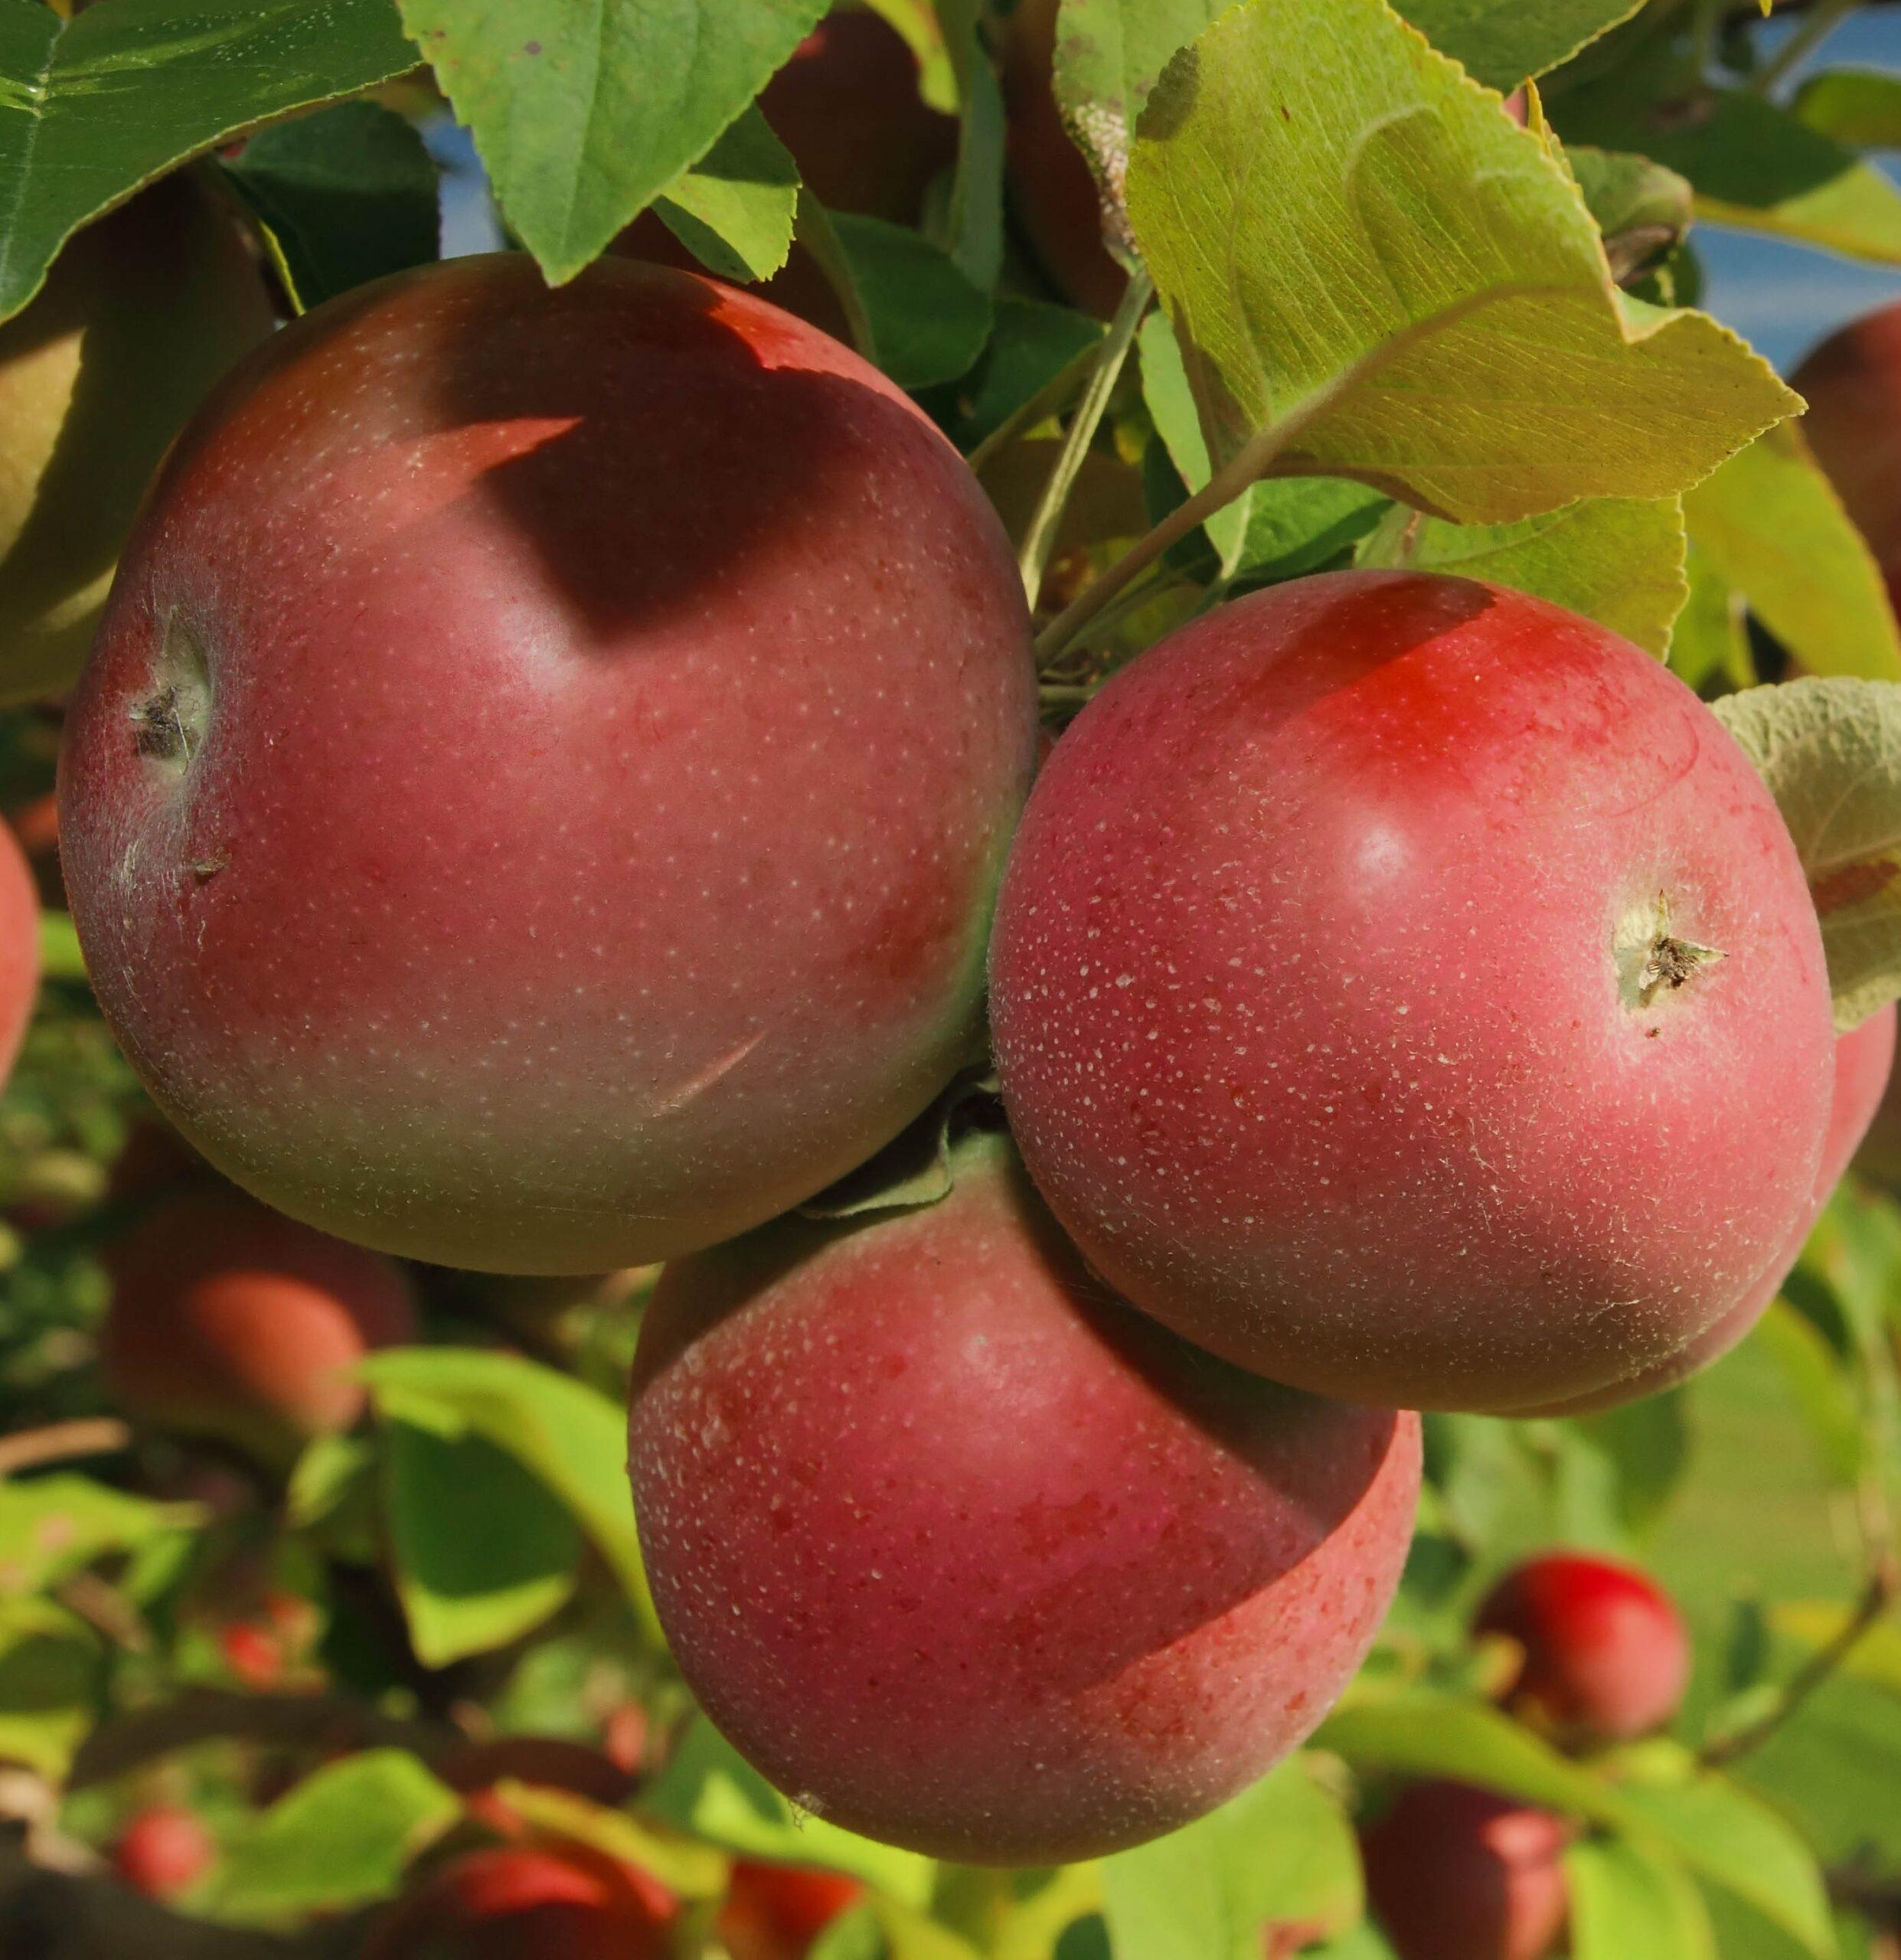apple: (53, 248, 1043, 1297), (972, 541, 1840, 1430), (618, 1158, 1453, 1862)
